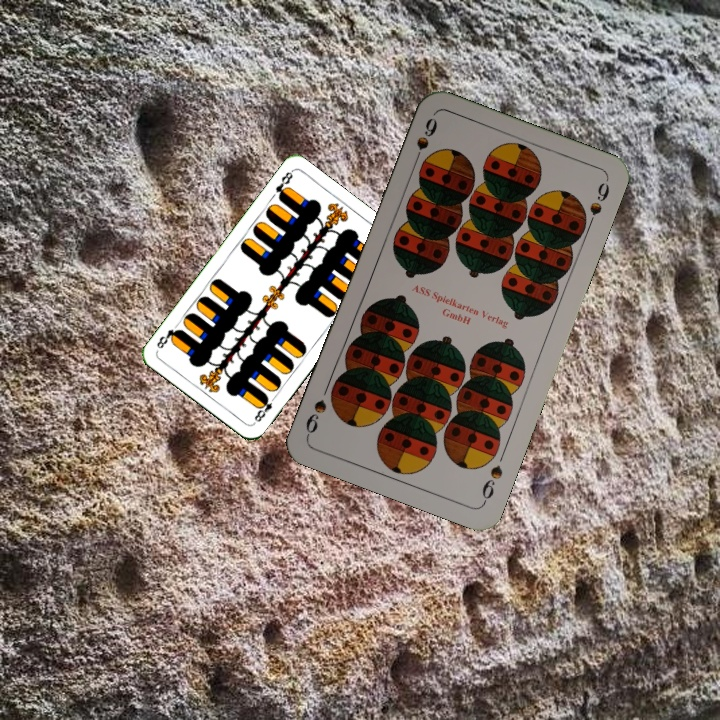E8: (250, 391, 279, 426), (271, 167, 296, 203)
S9: (409, 113, 440, 169), (477, 460, 505, 506)
